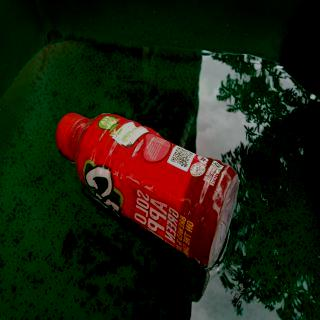bottle: (54, 110, 240, 270)
